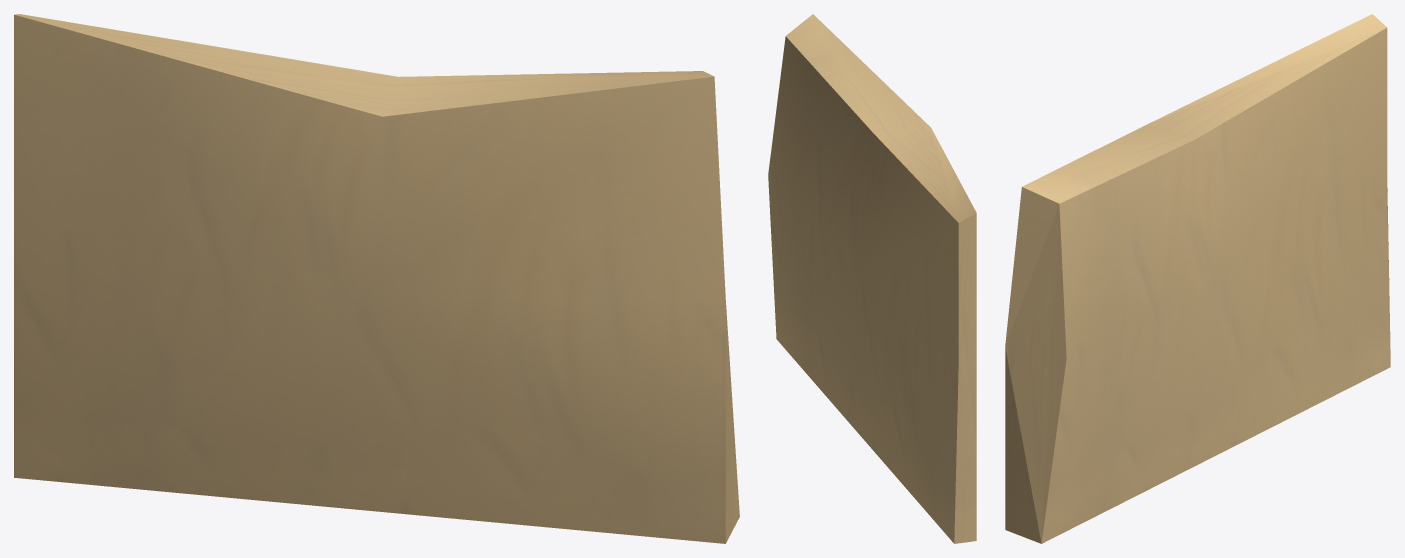
The model's file is WallD.FBX.
3 renders of one model, left to right at view 1: azimuth 30°, elevation 25°; view 2: azimuth 150°, elevation 25°; view 3: azimuth 270°, elevation 25°, orthographic. The views are drawn at different scales.
Visible parts, largest first — view 1: WallD; view 2: WallD; view 3: WallD.
Part boxes in pixels (left/top/right/bottom): WallD: left=14, top=14, right=739, bottom=543; WallD: left=768, top=14, right=976, bottom=543; WallD: left=1005, top=14, right=1390, bottom=543.
Bounding box in the file's own units: 21.5 × 19.05 × 18.86.
1 material, 1 textured.
